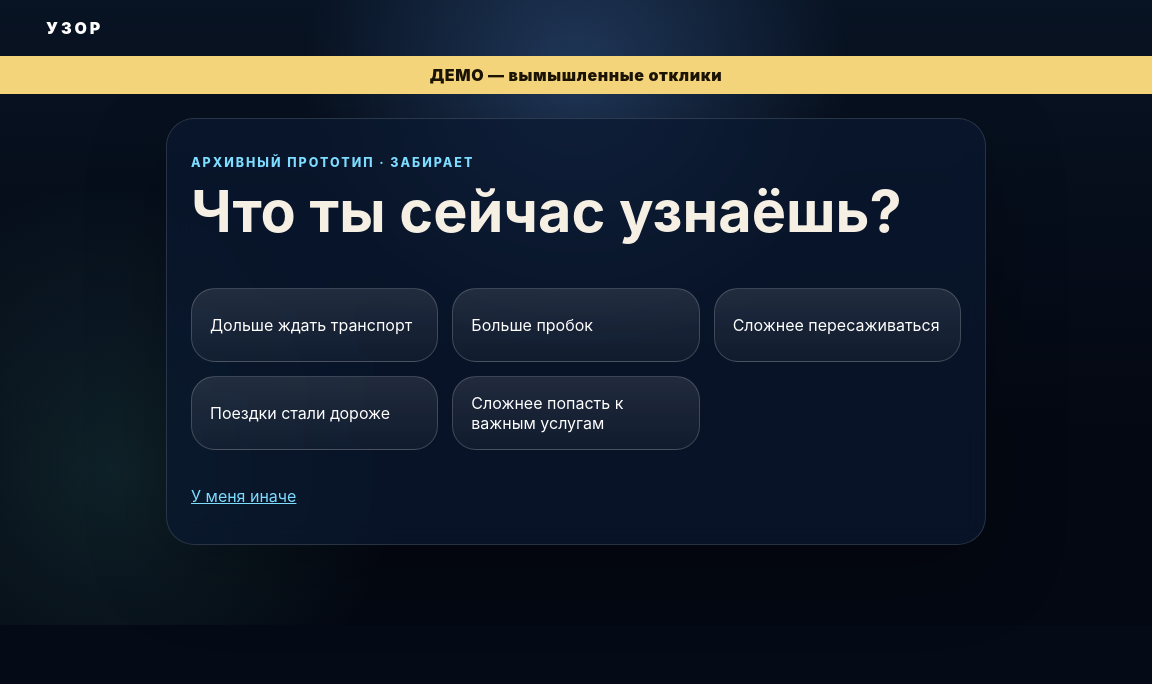
app › путь вклада: поле иначе скрыто, открывается, контекст сохраняется, результат остаётся на экране
This screenshot has width=1152, height=684.
Expected: the heading "Что ты сейчас узнаёшь?" is shown, [191, 183, 961, 240]
Expected: the field with placeholder "Опиши свой след" is not shown
Step 1. Click the button "У меня иначе" → {"x": 253, "y": 496}, box [191, 472, 314, 520]
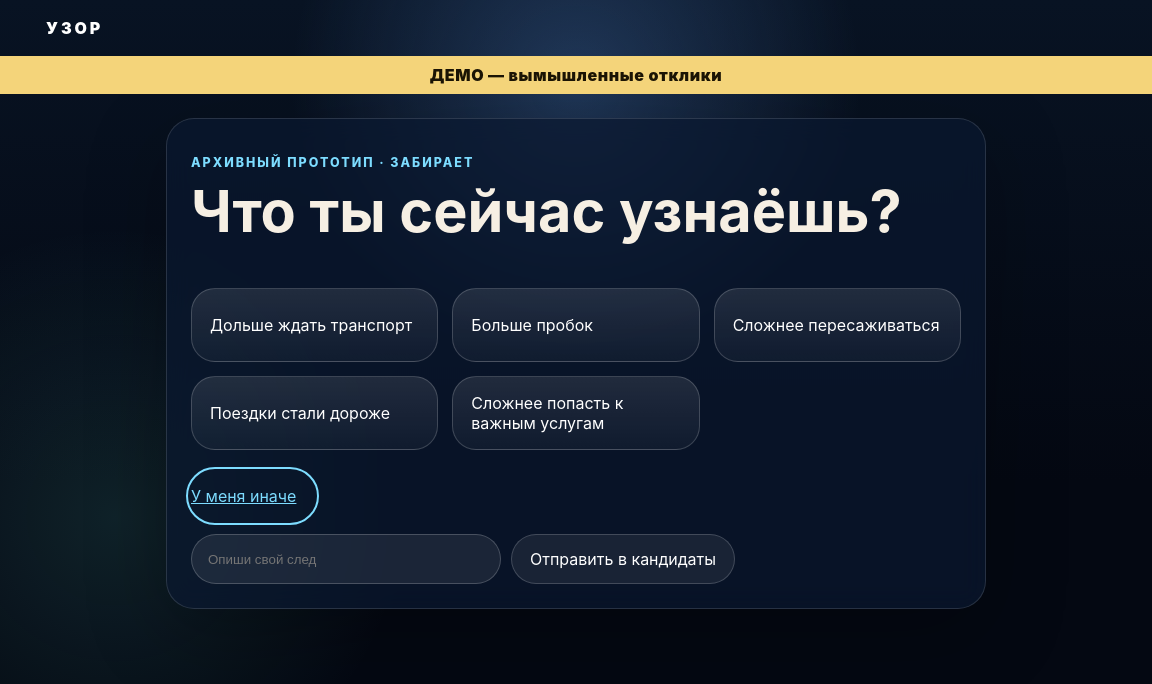
Result: the field with placeholder "Опиши свой след" is shown at [191, 534, 501, 584]
Step 2. Click the button "Дольше ждать транспорт" → {"x": 315, "y": 325}, box [191, 288, 438, 362]
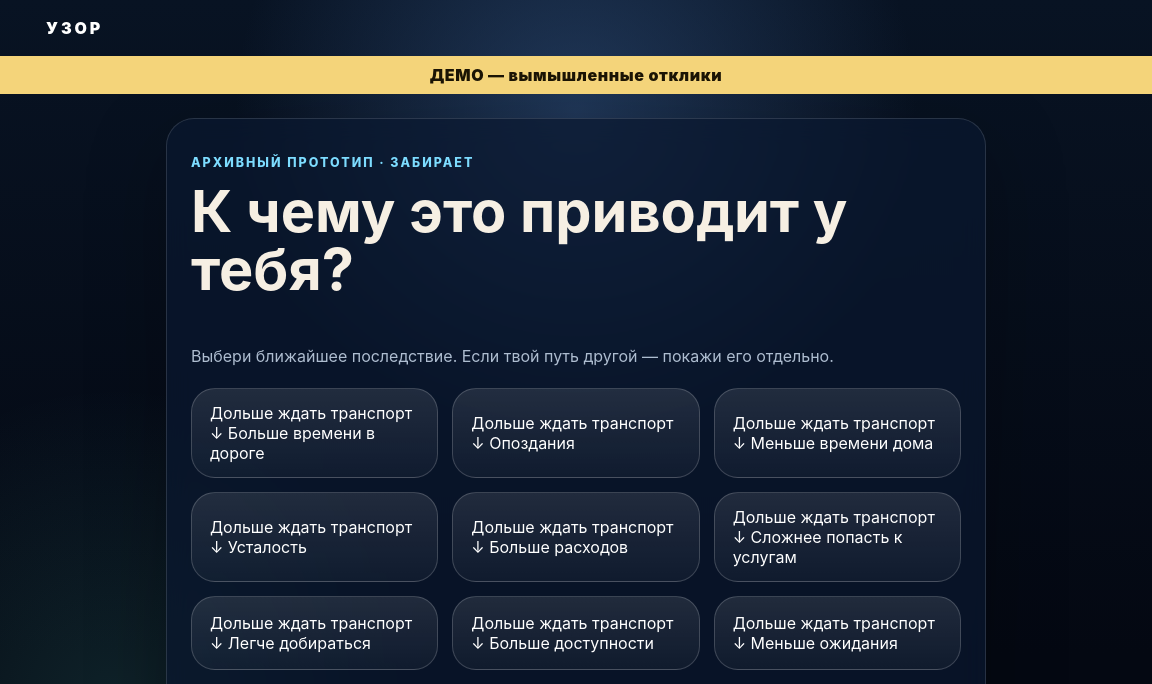
Step 3. Click the button "Дольше ждать транспорт ↓ Больше времени в дороге" → {"x": 315, "y": 433}, box [191, 388, 438, 478]
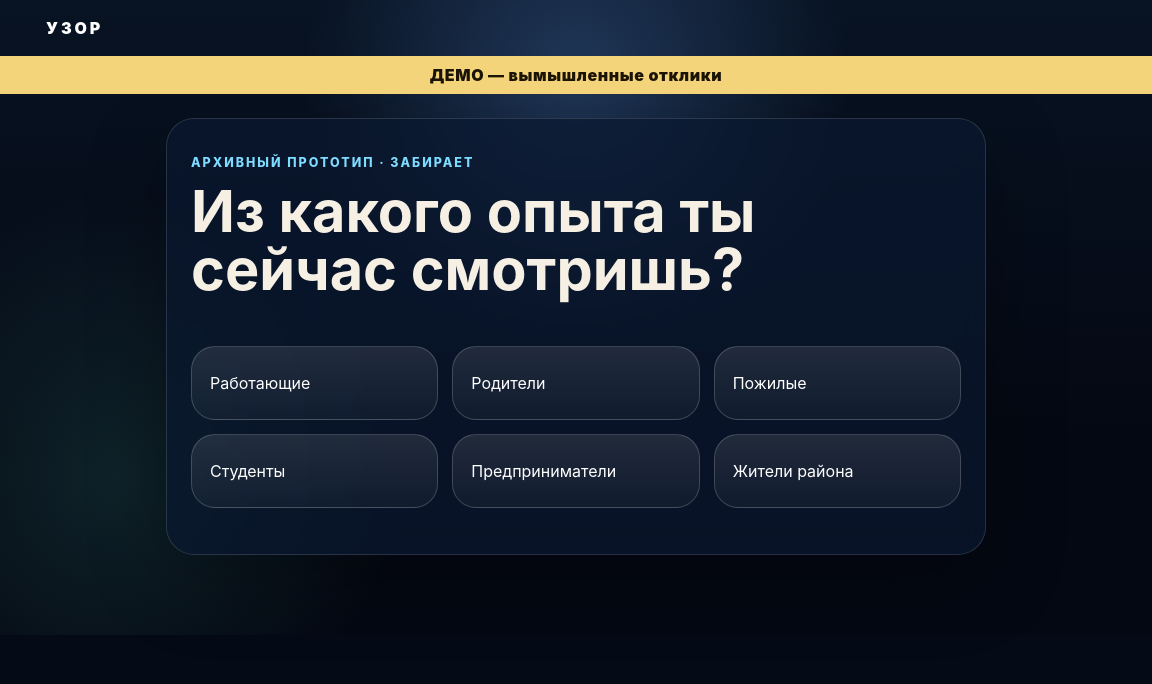
Step 4. Click the button "Работающие" → {"x": 315, "y": 383}, box [191, 346, 438, 420]
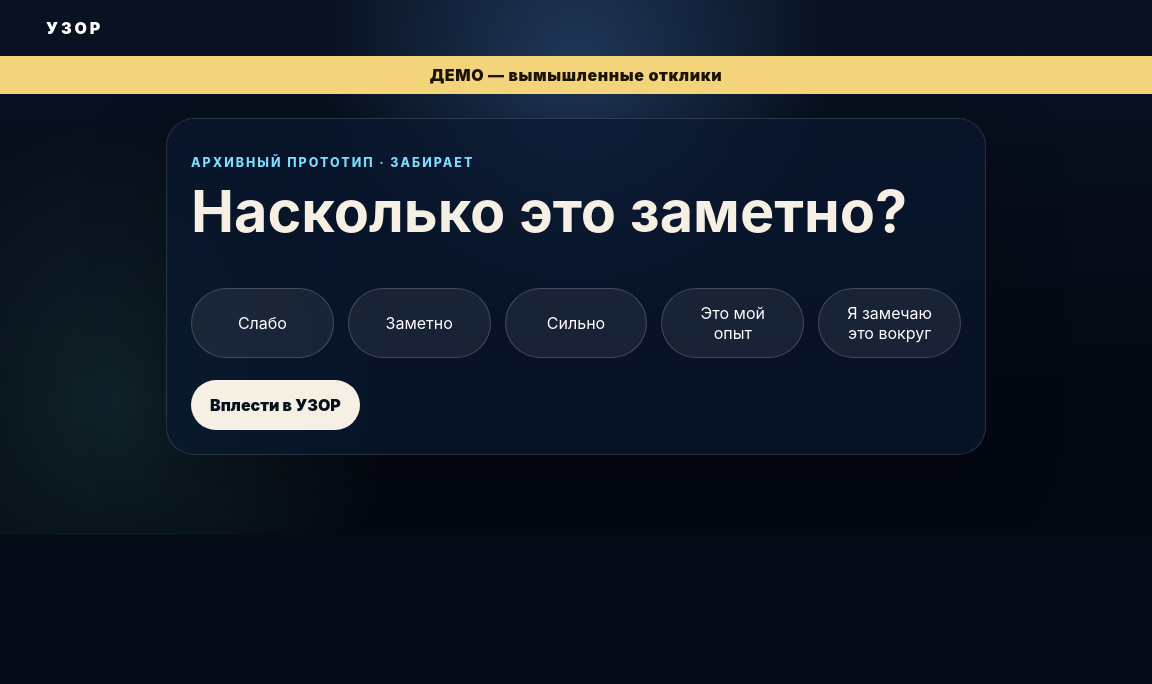
Step 5. Click the button "Вплести в УЗОР" → {"x": 275, "y": 405}, box [191, 380, 360, 430]
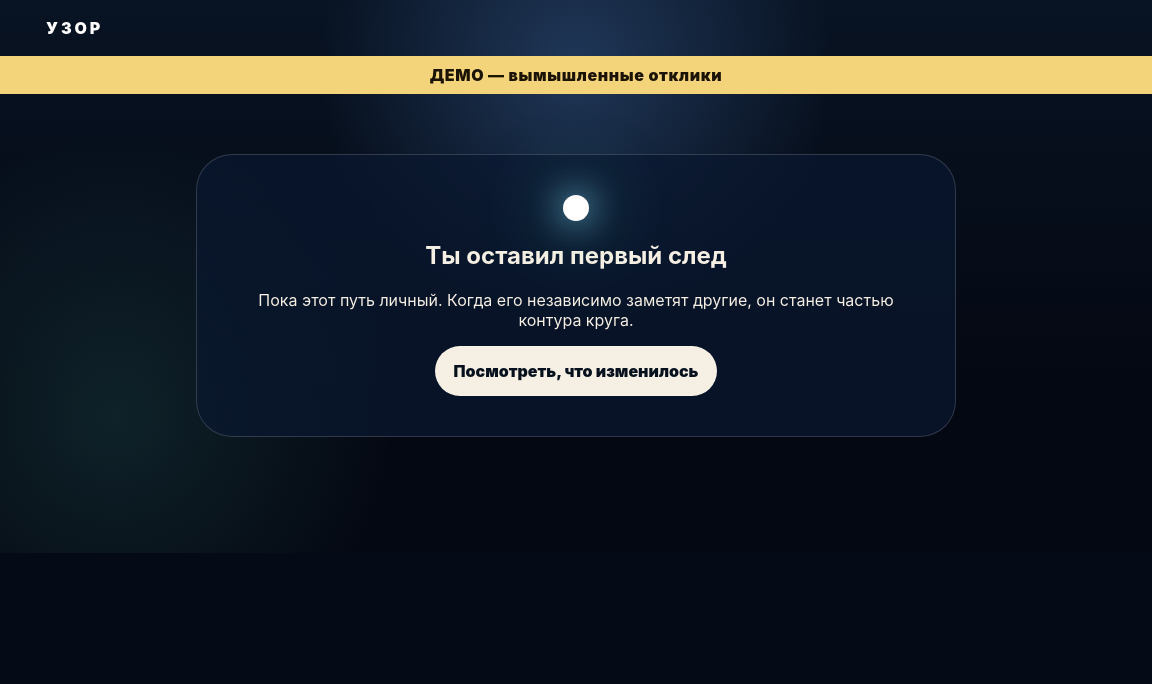
Result: the heading "Ты оставил первый след" is shown at [425, 241, 727, 270]
